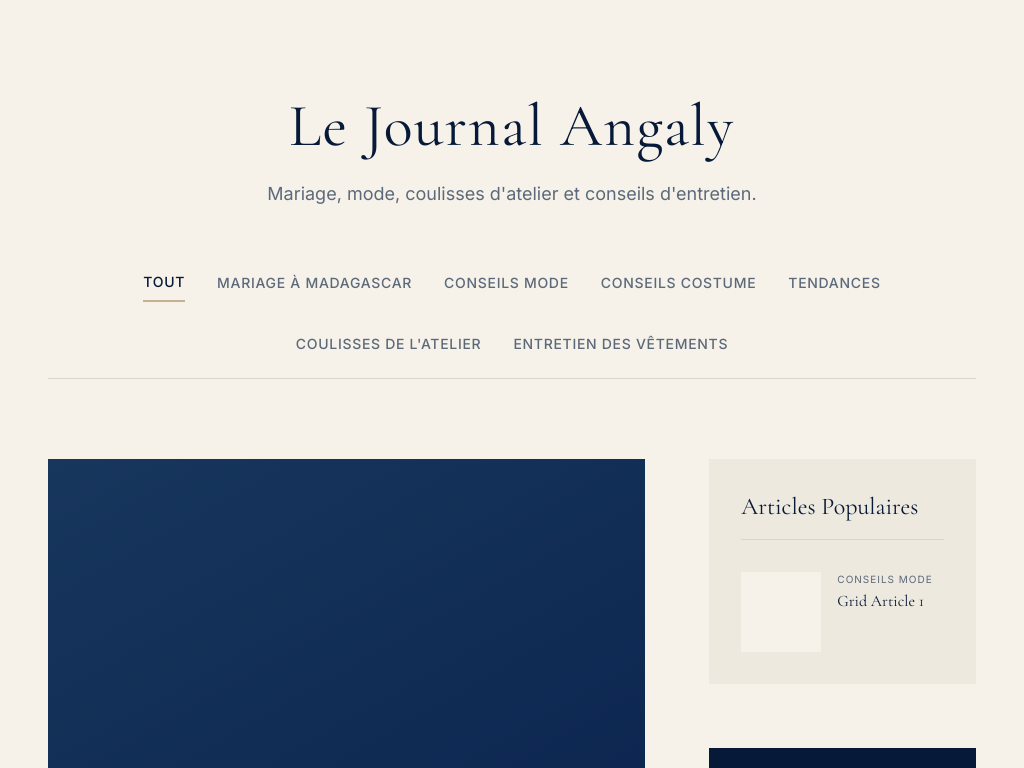
Test case: JournalListePage › filters the grid when a category pill with no matching articles is selected
The image size is (1024, 768).
Click the button "Tendances" at (834, 287), box [788, 272, 881, 302]
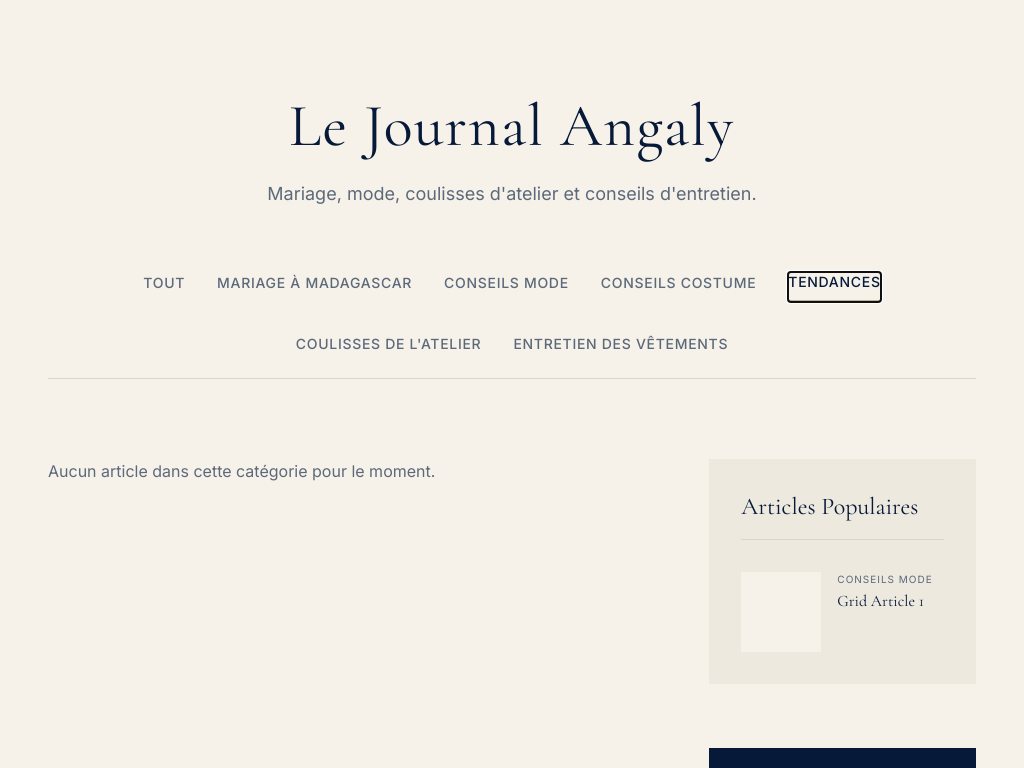
Result: the text "Aucun article dans cette catégorie pour le moment." is shown at [48, 461, 435, 481]
